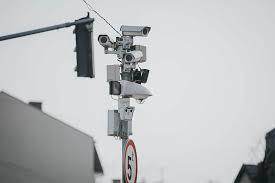Speed-Camera: (106, 78, 152, 105), (119, 21, 154, 41), (122, 46, 144, 68), (96, 31, 118, 51)
